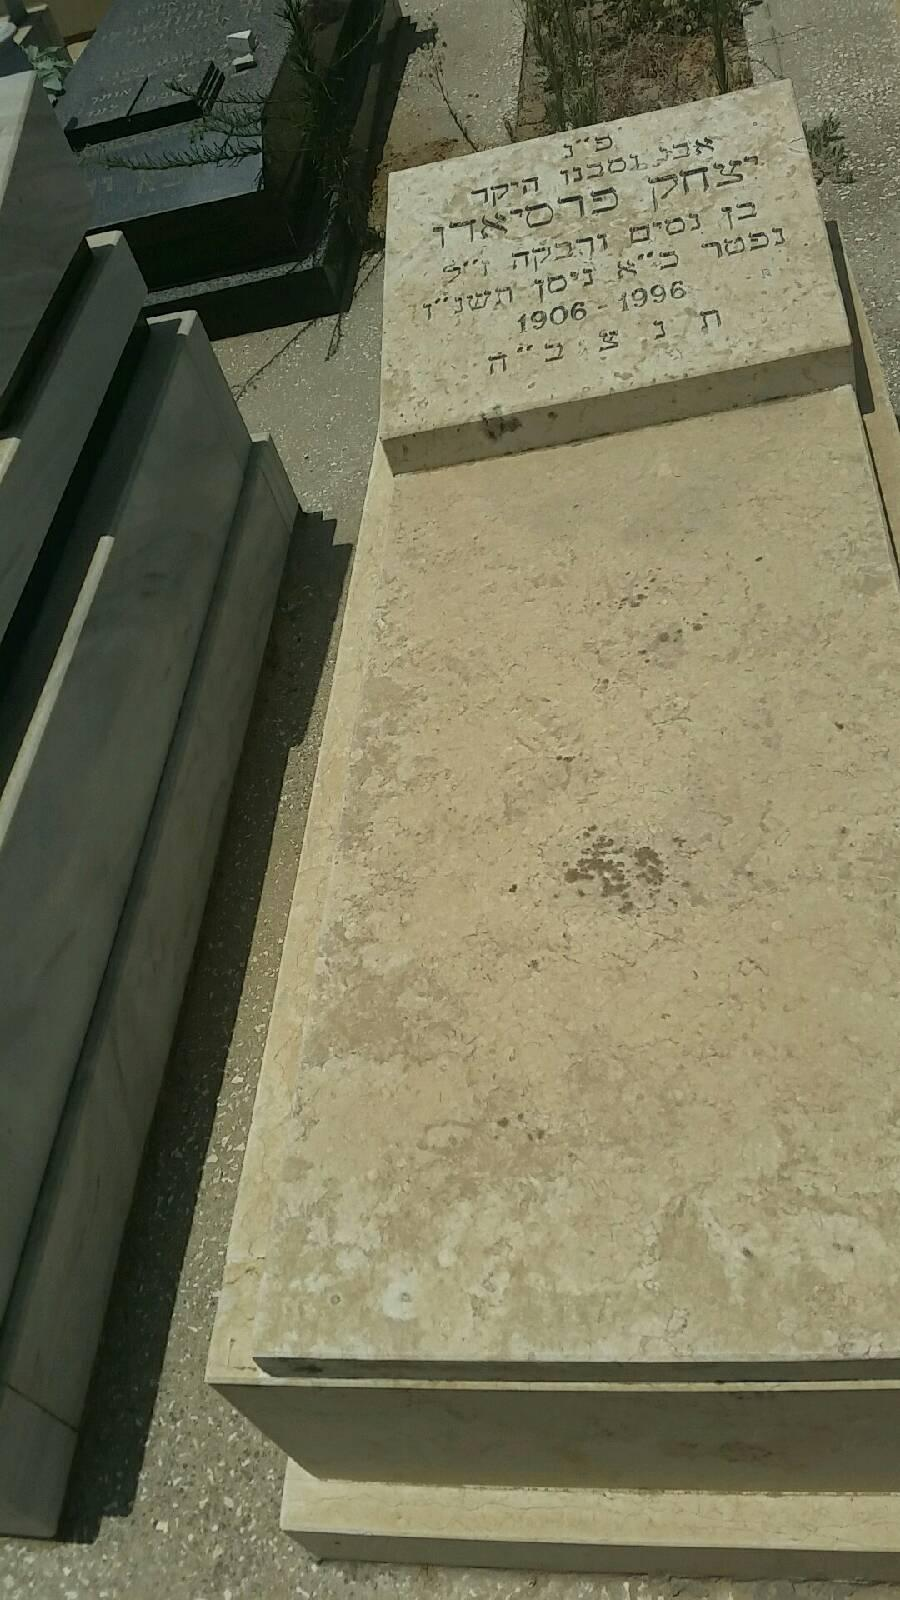vault: (211, 74, 900, 1574)
